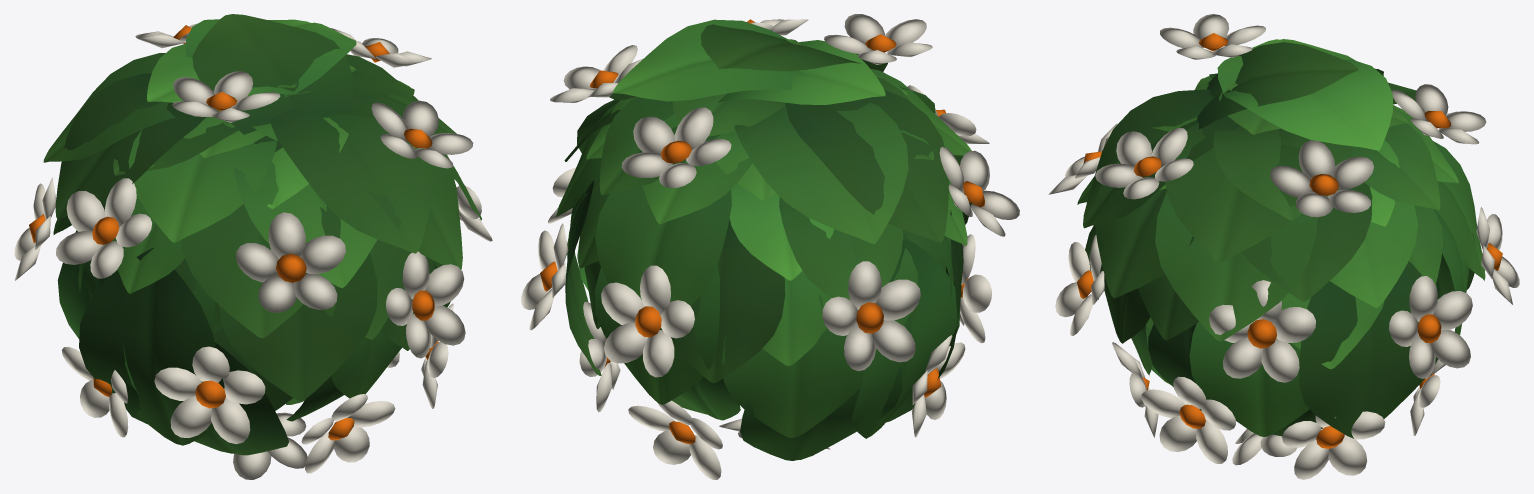
File: bush.glb
3 renders of one model, left to right at view 1: azimuth 30°, elevation 25°; view 2: azimuth 150°, elevation 25°; view 3: azimuth 270°, elevation 25°, orthographic. The views are drawn at different scales.
Visible parts, largest first — view 1: Bush; view 2: Bush; view 3: Bush.
Part boxes in pixels (bbox=[...]): Bush: bbox=[14, 14, 492, 479]; Bush: bbox=[521, 14, 1019, 479]; Bush: bbox=[1048, 14, 1519, 479].
Size of the model in its own units: 5.01 by 4.59 by 5.02.
